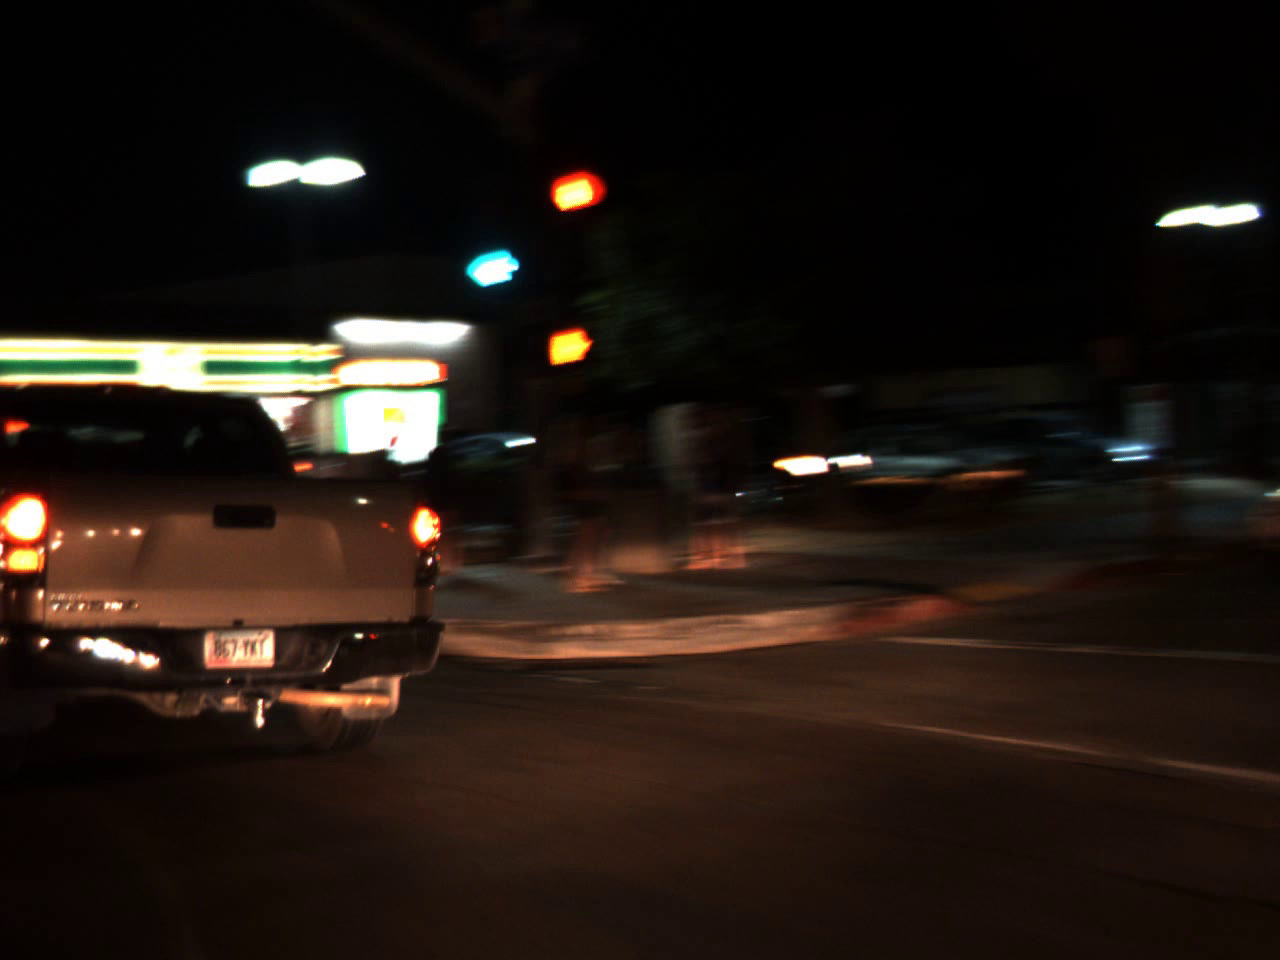go: (457, 227, 530, 293)
